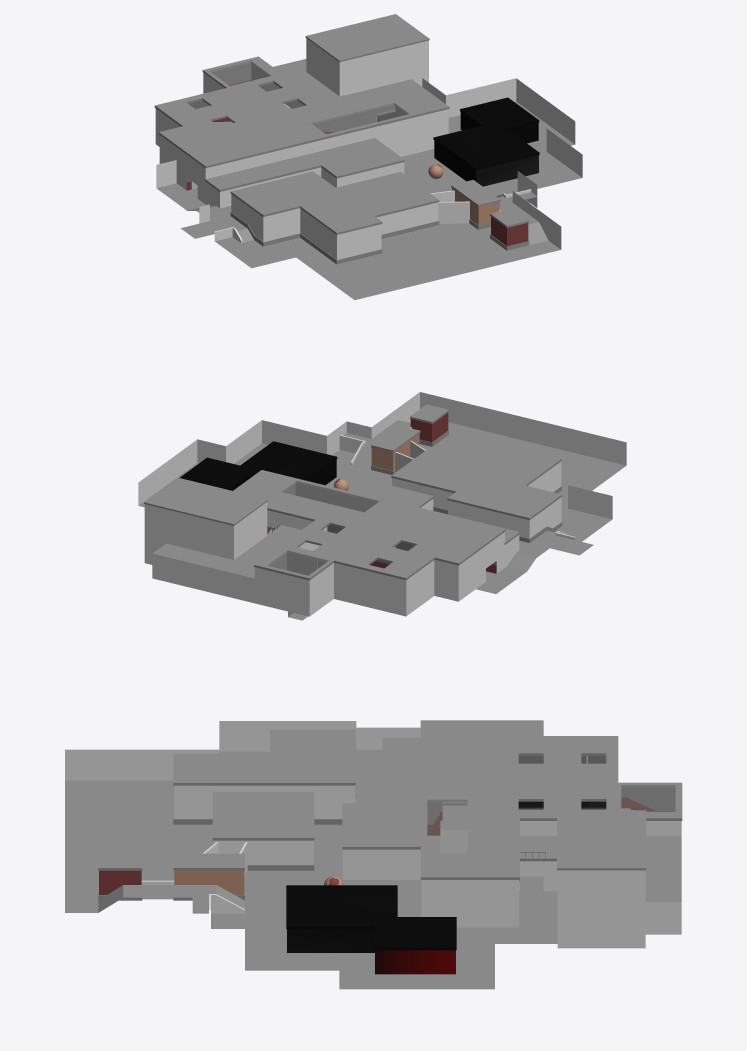
Rendered from zulu.glb.
3 views of the same model, one above another, from view 1: azimuth 30°, elevation 25°; view 2: azimuth 150°, elevation 25°; view 3: azimuth 270°, elevation 25° (orthographic). The views are drawn at different scales.
Visible parts, largest first — view 1: BBuildingExterior-occ-col, Building1-occ-col, AFloor-col, BTBuilding-col, TBuilding-occ-col, TWall-col, ATMain-occ-col, CTFloor-occ-col, TFloor-col, MidFloor-col, BBuildingInterior-occ-col, BBuildingMini-col (+3 smaller); view 2: BBuildingExterior-occ-col, Building1-occ-col, BTBuilding-col, CTWall-col, TWall-col, BBuildingMini-col, AFloor-col, TBuilding-occ-col, ATMain-occ-col, CTFloor-occ-col, BBuildingInterior-occ-col, MidFloor-col (+2 smaller); view 3: BBuildingExterior-occ-col, Building1-occ-col, BTBuilding-col, AFloor-col, TFloor-col, TBuilding-occ-col, CTWall-col, ATMain-occ-col, BBuildingMini-col, MidFloor-col, CTFloor-occ-col, BCTFloor-occ-col (+2 smaller).
Boxes of the visible parts, bbox=[...] form: BBuildingExterior-occ-col: bbox=[154, 56, 449, 208]; Building1-occ-col: bbox=[230, 171, 439, 264]; AFloor-col: bbox=[296, 223, 560, 300]; BTBuilding-col: bbox=[305, 14, 429, 96]; TBuilding-occ-col: bbox=[433, 97, 539, 186]; TWall-col: bbox=[422, 78, 582, 249]; ATMain-occ-col: bbox=[451, 179, 548, 250]; CTFloor-occ-col: bbox=[156, 183, 318, 268]; TFloor-col: bbox=[376, 101, 581, 203]; MidFloor-col: bbox=[401, 151, 465, 193]; BBuildingInterior-occ-col: bbox=[188, 83, 395, 134]; BBuildingMini-col: bbox=[273, 59, 339, 109]; BBuildingExterior-occ-col: bbox=[233, 470, 519, 616]; Building1-occ-col: bbox=[391, 447, 562, 542]; BTBuilding-col: bbox=[144, 477, 267, 564]; CTWall-col: bbox=[420, 392, 626, 539]; TWall-col: bbox=[138, 392, 419, 505]; BBuildingMini-col: bbox=[152, 525, 321, 603]; AFloor-col: bbox=[410, 422, 625, 508]; TBuilding-occ-col: bbox=[179, 441, 337, 490]; ATMain-occ-col: bbox=[339, 404, 448, 474]; CTFloor-occ-col: bbox=[476, 507, 612, 593]; BBuildingInterior-occ-col: bbox=[278, 512, 414, 568]; MidFloor-col: bbox=[326, 465, 391, 490]; BBuildingExterior-occ-col: bbox=[342, 720, 682, 927]; Building1-occ-col: bbox=[173, 730, 355, 870]; BTBuilding-col: bbox=[557, 810, 646, 948]; AFloor-col: bbox=[65, 780, 244, 912]; TFloor-col: bbox=[211, 891, 557, 989]; TBuilding-occ-col: bbox=[286, 885, 456, 974]; CTWall-col: bbox=[65, 721, 420, 780]; ATMain-occ-col: bbox=[98, 853, 244, 913]; BBuildingMini-col: bbox=[519, 836, 681, 934]; MidFloor-col: bbox=[245, 824, 421, 912]; CTFloor-occ-col: bbox=[219, 743, 382, 802]; BCTFloor-occ-col: bbox=[427, 805, 467, 853].
Size of what is drawn, in the model's own units: 137 by 23.55 by 145.
